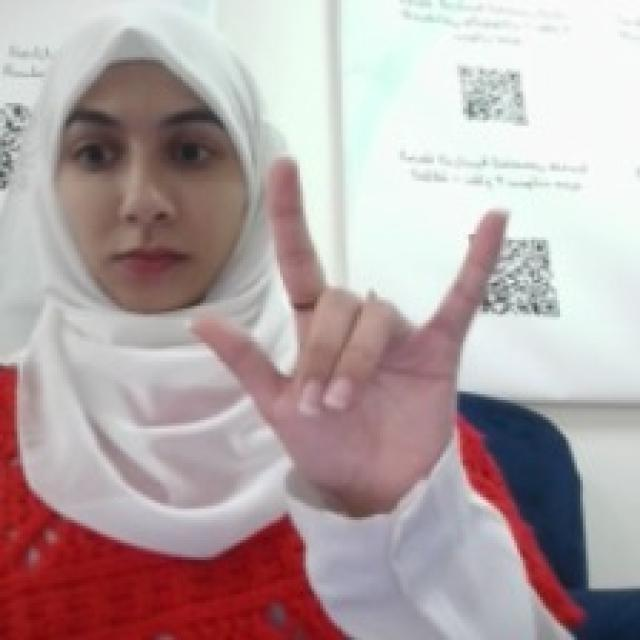love: (188, 149, 512, 500)
